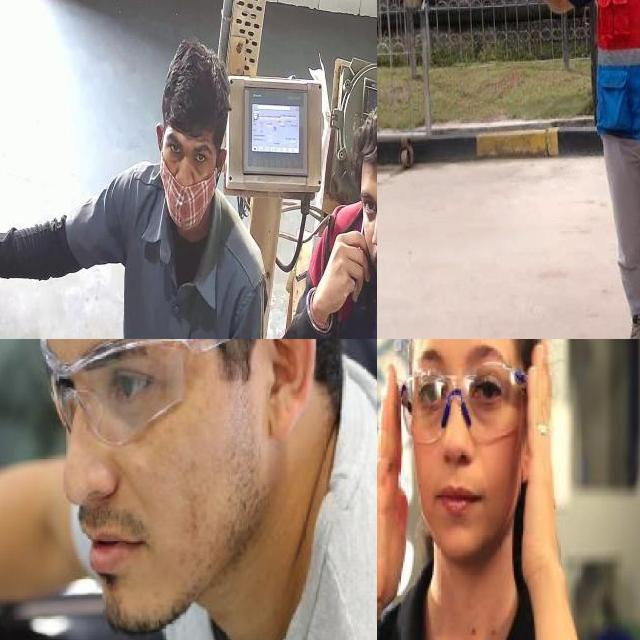No_Ear-Protection: (261, 339, 317, 446)
No_Glasses: (157, 126, 218, 172), (353, 177, 377, 218)
boots: (620, 309, 640, 339)
face_mask: (34, 339, 331, 445), (158, 136, 220, 224)
face_nomask: (36, 339, 178, 572), (409, 376, 514, 532), (359, 184, 377, 281)
glasses: (396, 359, 529, 451)
hand_noglove: (515, 342, 568, 594), (377, 355, 412, 598), (309, 228, 372, 316)
head_nohelmet: (155, 38, 234, 140), (350, 96, 377, 174)
person: (377, 339, 638, 640), (479, 0, 640, 339), (98, 34, 269, 339), (271, 95, 377, 339)
vest: (591, 0, 640, 136)
